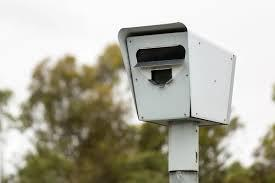Speed-Camera: (112, 20, 241, 128)
